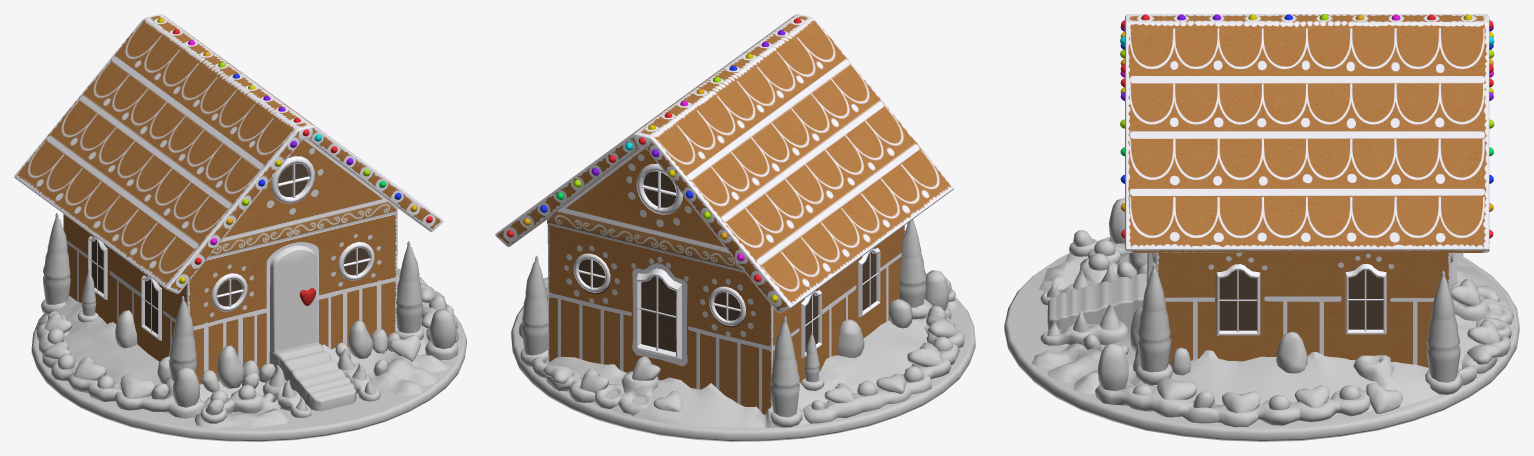
3 views of the same model, side by side, from view 1: azimuth 30°, elevation 25°; view 2: azimuth 150°, elevation 25°; view 3: azimuth 270°, elevation 25° (orthographic). The views are drawn at different scales.
Parts seen in each view (by area): view 1: gingerbread_house.1_1; view 2: gingerbread_house.1_1; view 3: gingerbread_house.1_1.
Boxes of the visible parts, x1,y1,x2,y2 form: gingerbread_house.1_1: (14,14,466,441); gingerbread_house.1_1: (495,14,975,441); gingerbread_house.1_1: (1004,14,1519,441).
Size of the model in its own units: 0.2619 by 0.1793 by 0.2625.
